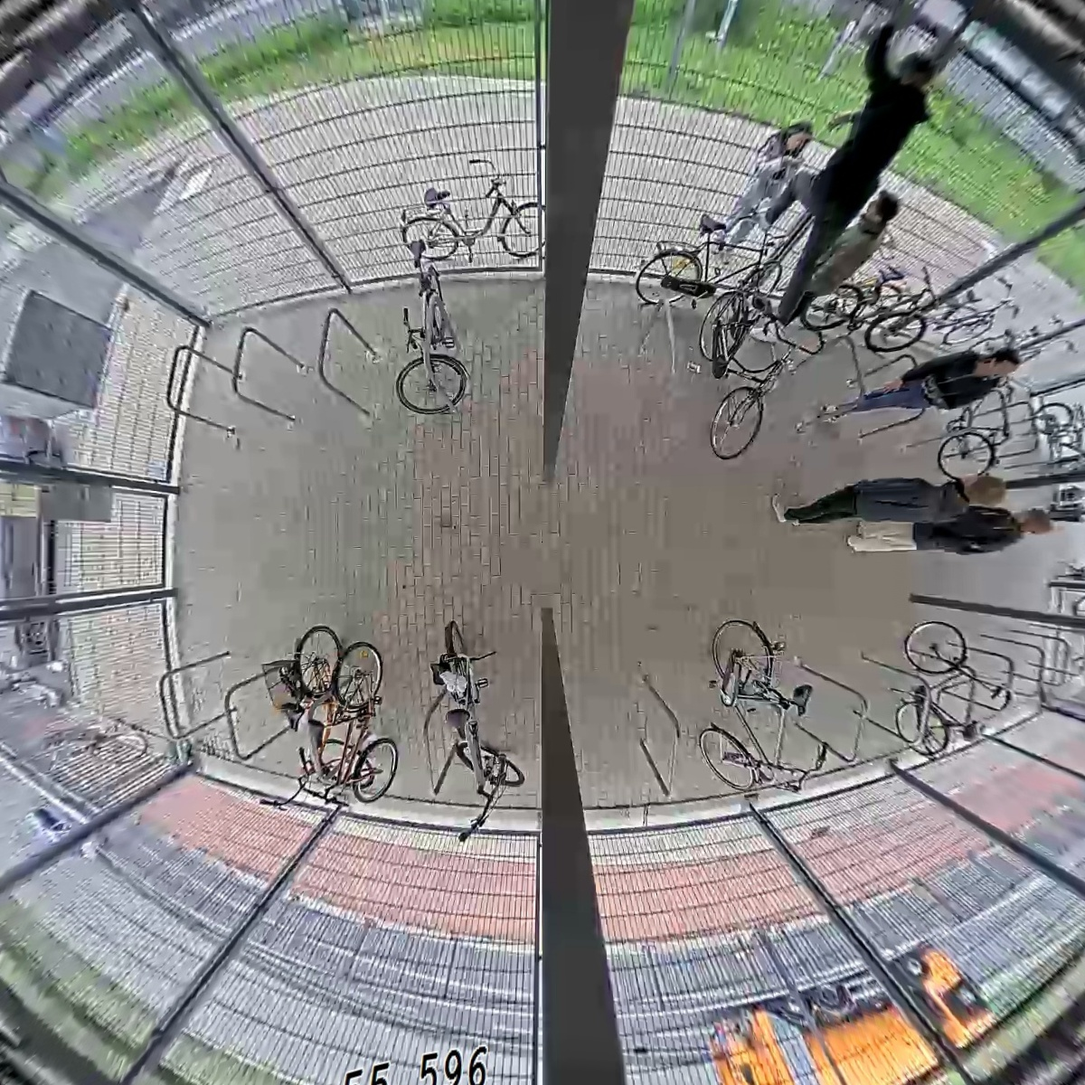bicylce: (255, 617, 378, 815), (694, 285, 829, 462), (295, 627, 401, 832), (703, 618, 817, 801), (887, 613, 1018, 763), (631, 204, 803, 314), (427, 619, 525, 812), (387, 234, 473, 418), (802, 265, 936, 354)
saddle: (437, 709, 477, 743), (785, 681, 821, 718), (300, 718, 336, 753), (274, 701, 308, 733), (696, 210, 732, 239), (402, 236, 436, 266), (748, 290, 775, 319), (960, 717, 982, 746), (877, 265, 903, 287), (997, 414, 1018, 440)
